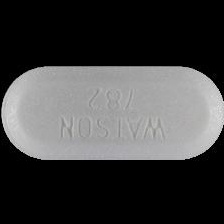54868-1463: (0, 0, 224, 224)
